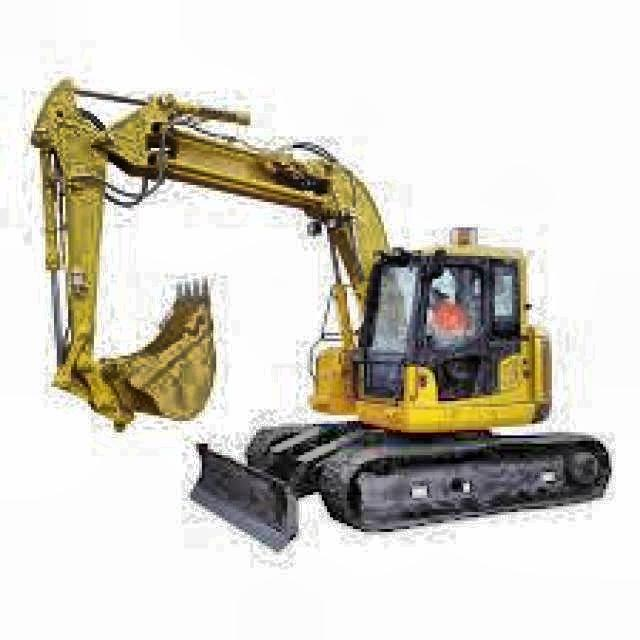bull_dozer/loader/grader: (28, 73, 618, 560)
person: (425, 276, 473, 342)
